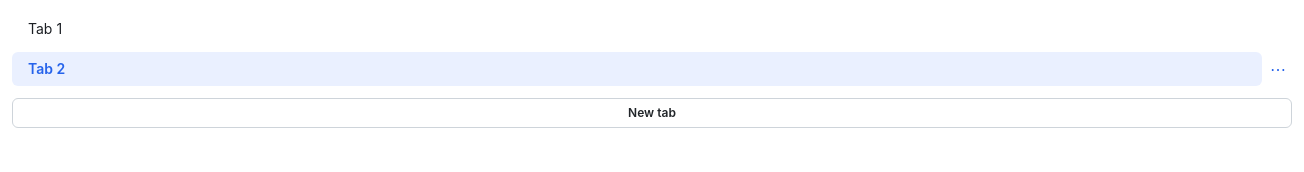
Test: TabBar › clicking a tab makes it active, and arrow keys move between tabs
This screenshot has width=1304, height=172.
Step 1. Click the tab "Tab 1" → [45, 28], box [12, 12, 1292, 46]
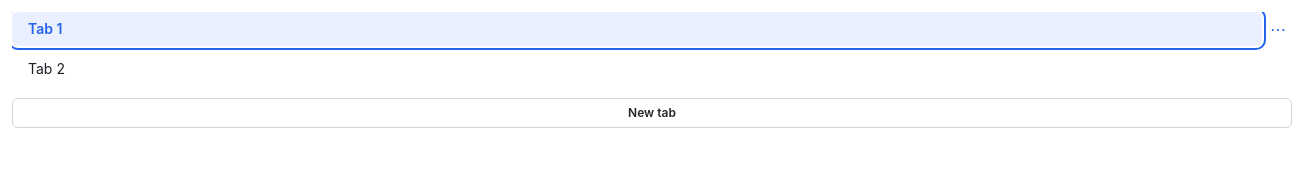
Check: the tab "Tab 1" is selected, box [12, 12, 1262, 46]
Step 2. Press Arrowdown
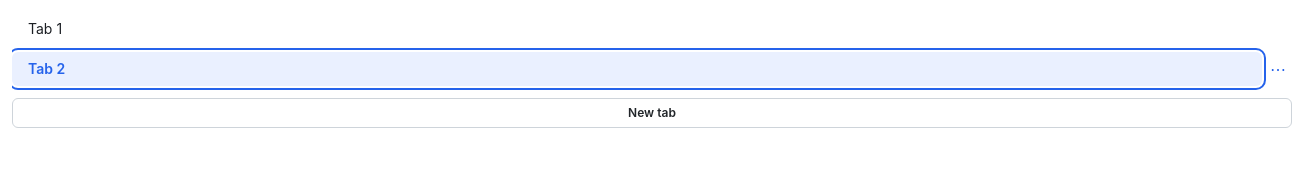
Check: the tab "Tab 2" is selected, box [12, 52, 1262, 86]
